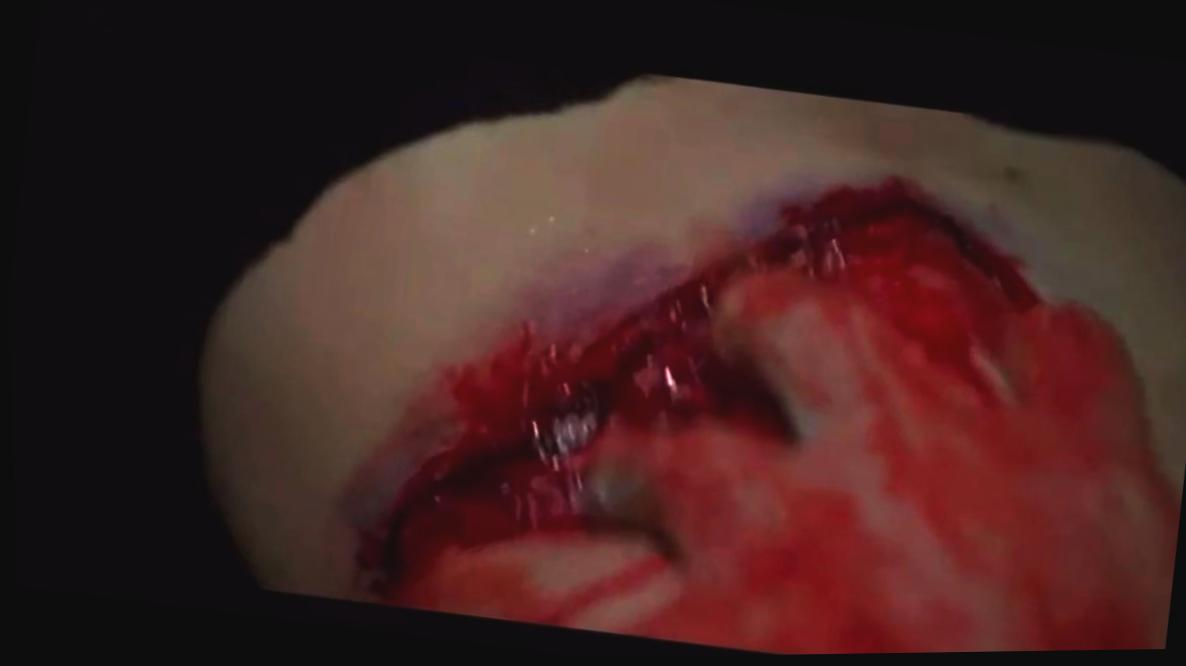Fire: (337, 180, 1178, 657), (356, 183, 1178, 657)
